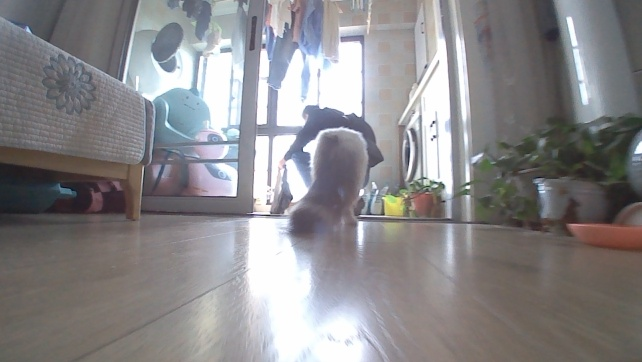sofa1: (0, 16, 159, 223)
